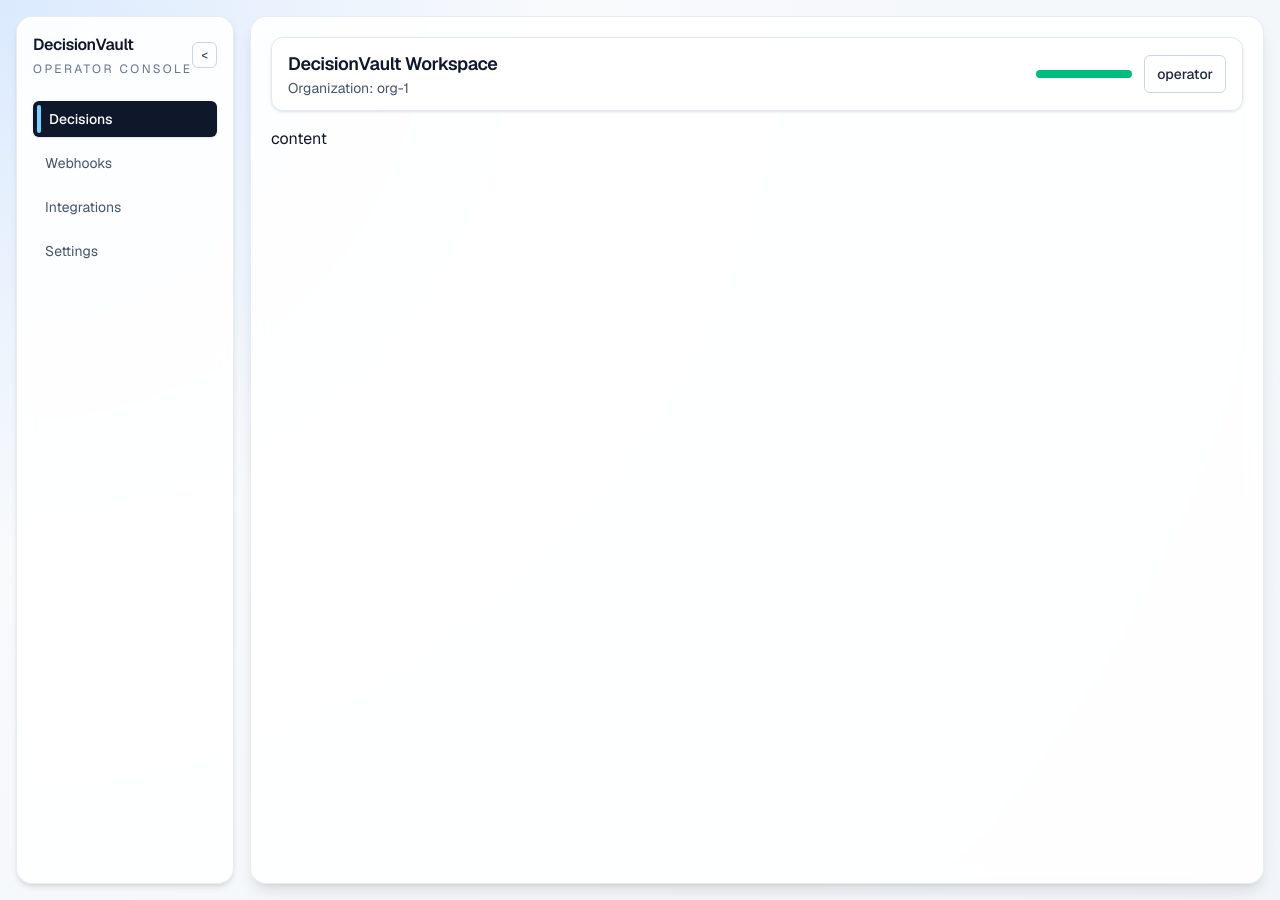
Test: app shell › collapses and expands sidebar
Click the button named "collapse sidebar": (205,55) [192,42,217,68]
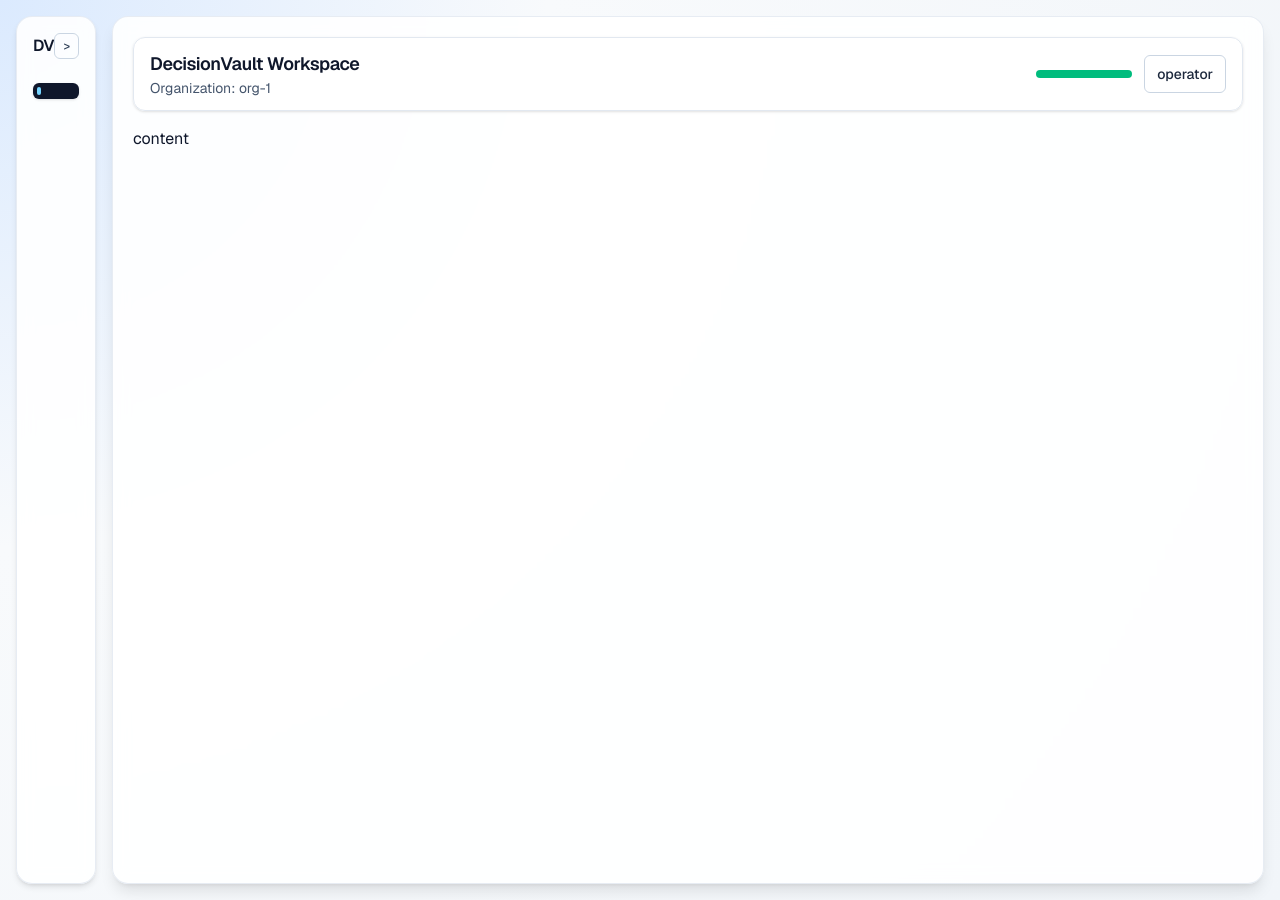
Result: the element with test id "app-sidebar" has attribute data-collapsed="true" at [16,16,96,884]
Click the button named "expand sidebar": (67,46) [54,33,79,59]
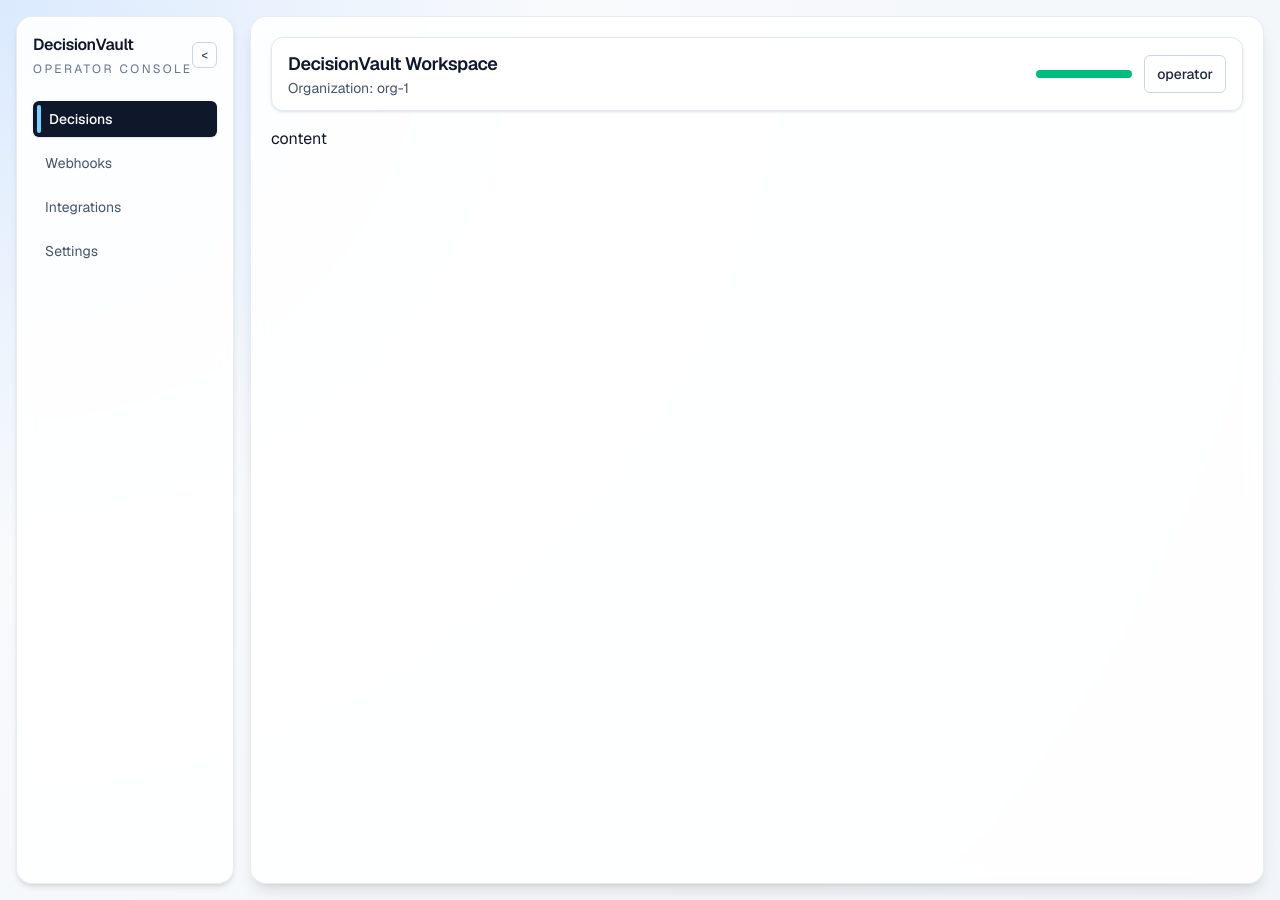
Result: the element with test id "app-sidebar" has attribute data-collapsed="false" at [16,16,234,884]
